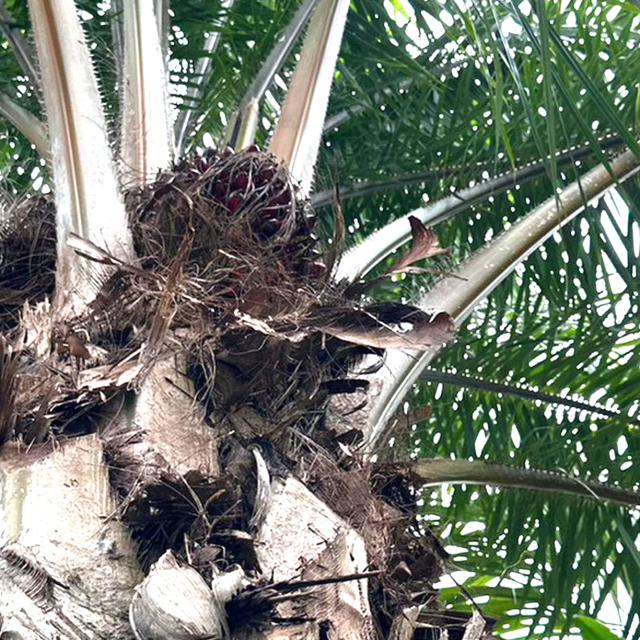ripe: (118, 123, 349, 317)
